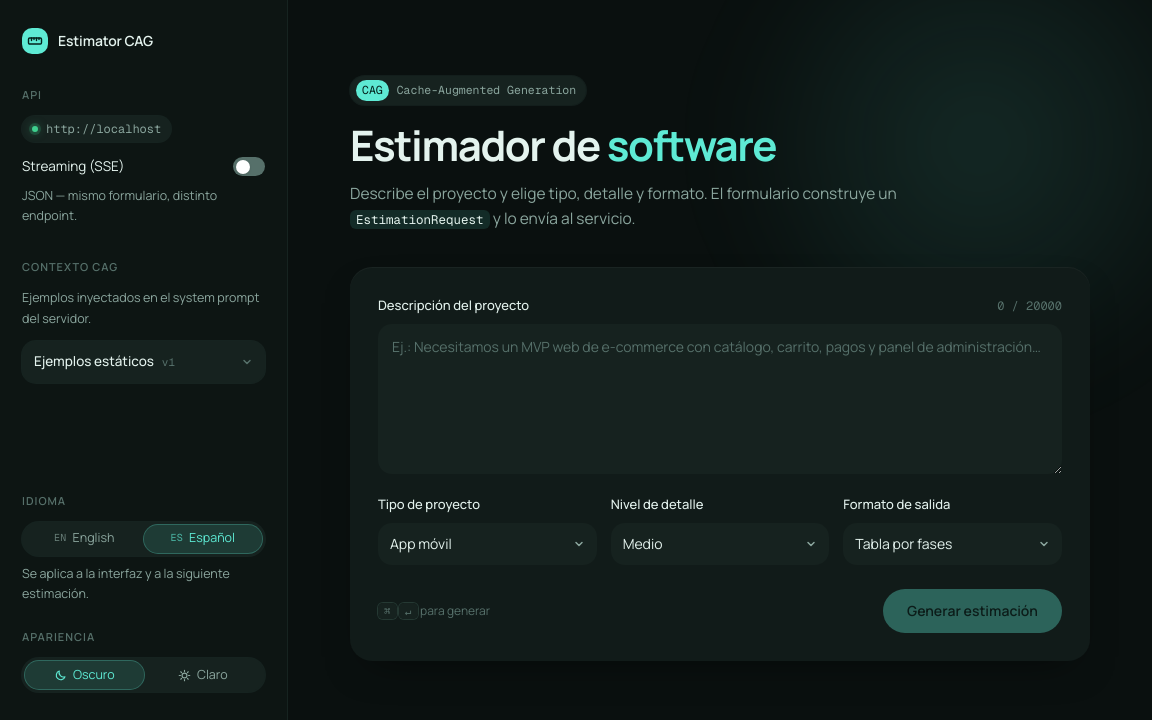
App › uses the streaming endpoint when the sidebar switch is on
Type "App móvil para reservar clases en un gimnasio." into the text box labelled "Descripción del proyecto 0 / 20000" at (720, 399), box [378,324,1062,474]
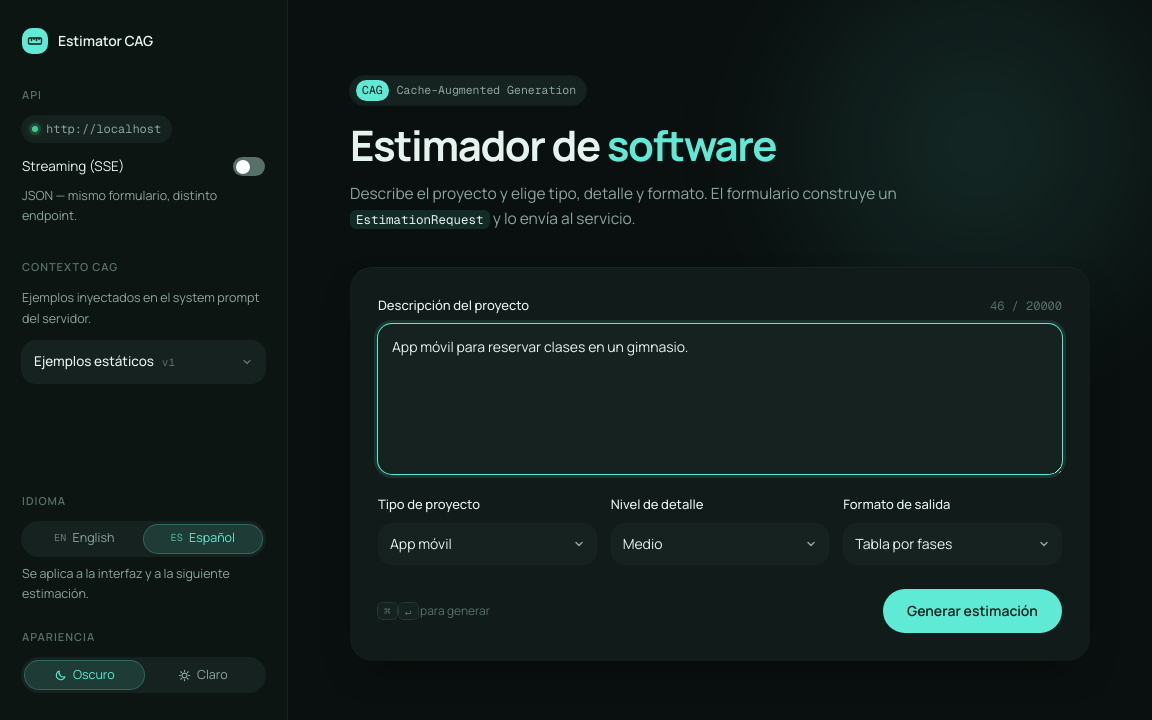
Click the switch labelled "Streaming (SSE)" at (249, 167), box [233,157,265,176]
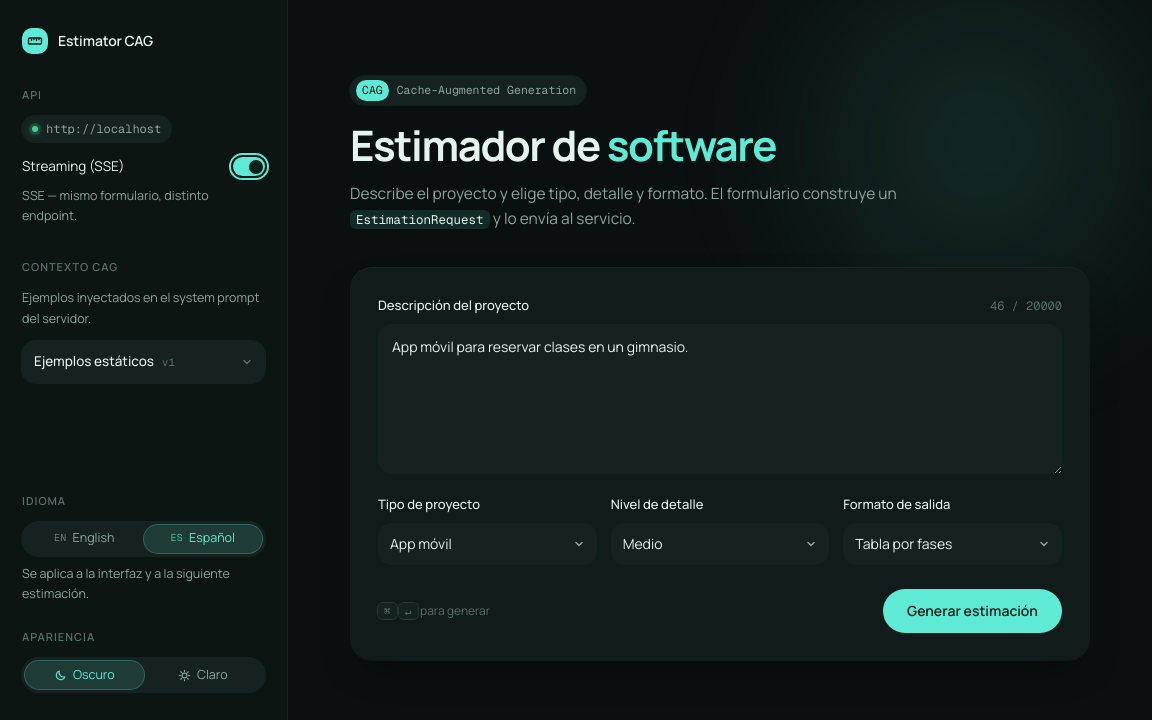
Click the button "Generar estimación" at (973, 611), box [883,589,1062,633]
(page scrolled)
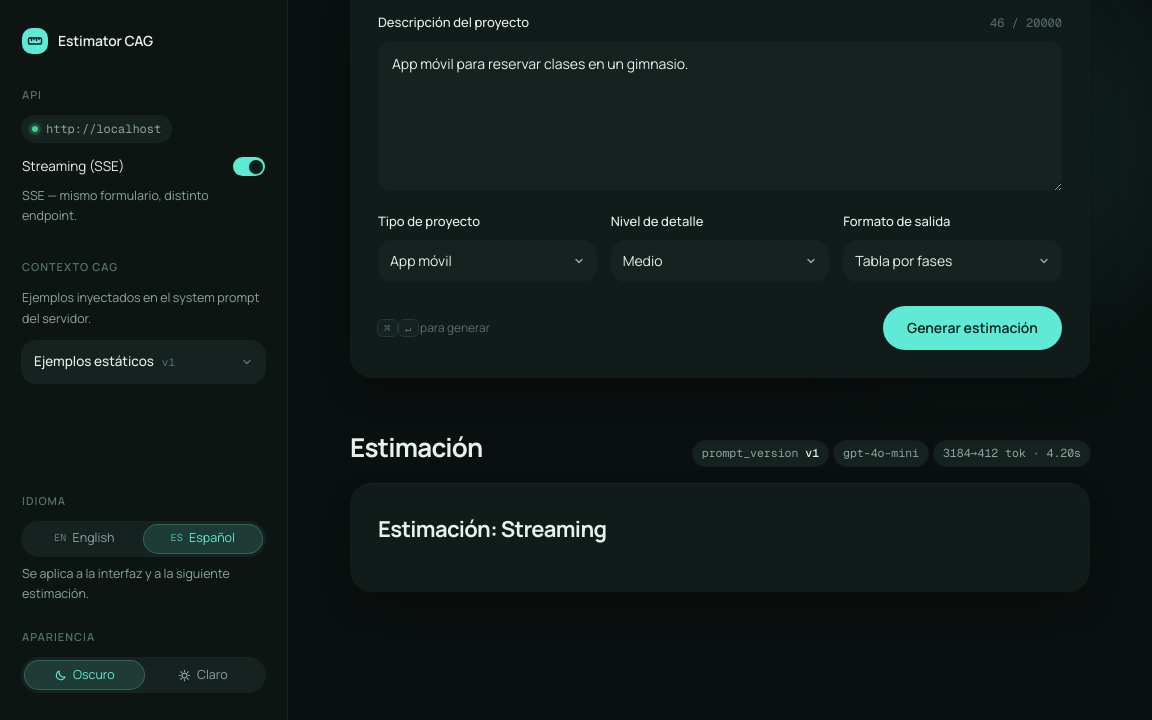
Result: the heading "Estimación: Streaming" is shown at [378,514,606,544]
Result: the text "gpt-4o-mini" is shown at [834,441,928,466]
